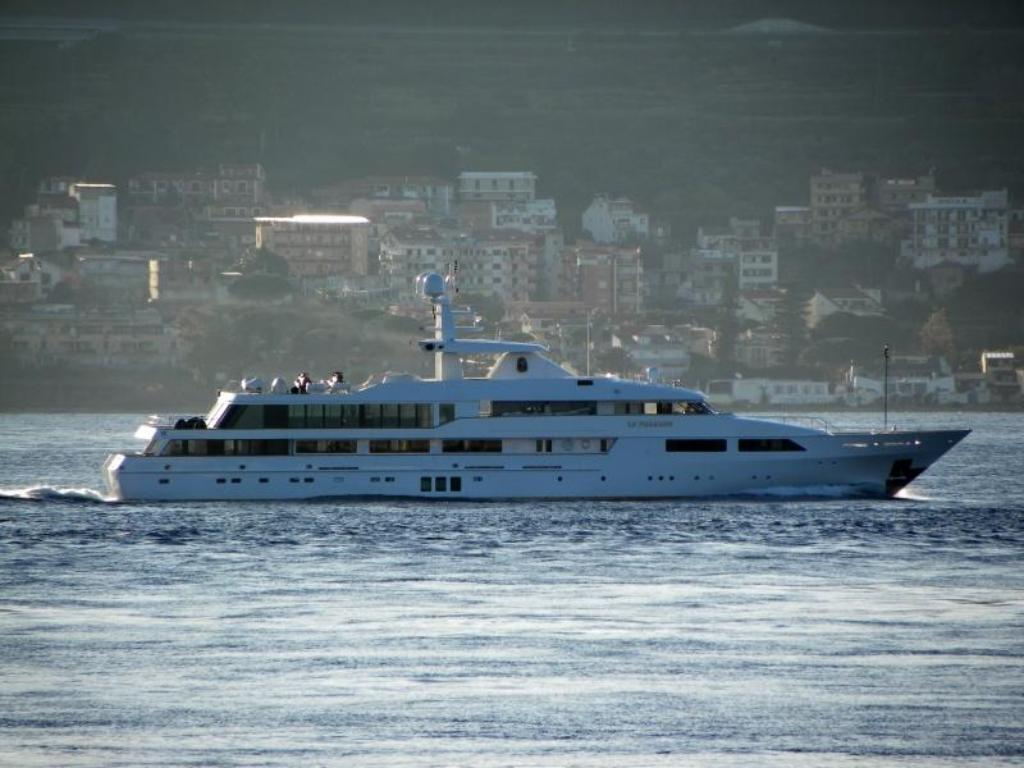PassengerShip: (96, 256, 976, 514)
